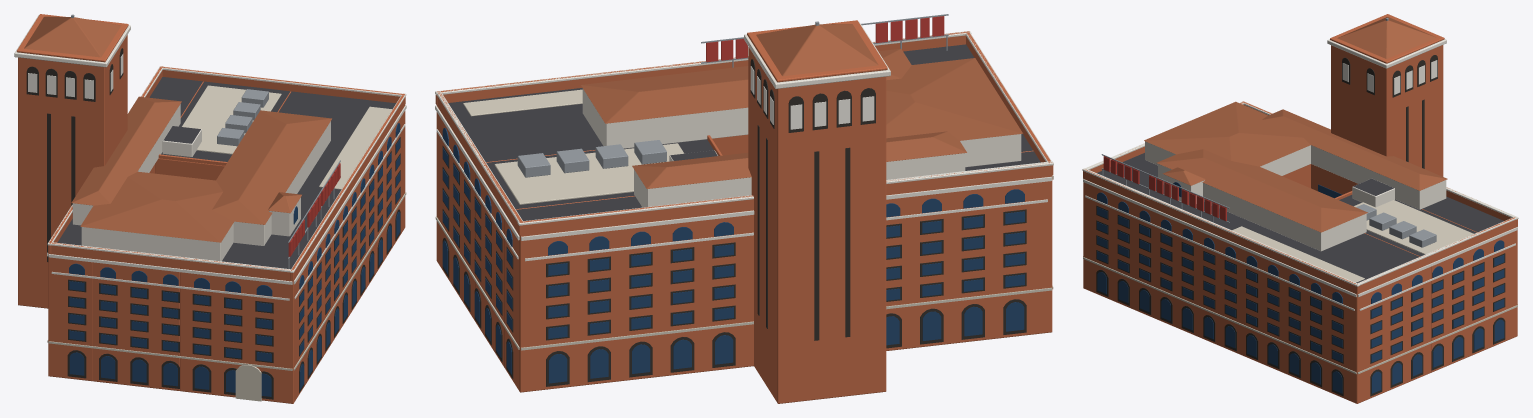
Rendered from hills-brothers-building.glb.
The picture shows the model from 3 angles, left to right: view 1: azimuth 30°, elevation 25°; view 2: azimuth 150°, elevation 25°; view 3: azimuth 270°, elevation 25°; orthographic projection. The views are drawn at different scales.
Visible parts, largest first — view 1: wing_se, tower_shaft, ph_se_roof, ph_sw_roof, wing_sw, wing_nw, ph_nw_roof, ph_sw, tower_pyramid, mech_field, par_sw, par_ne (+27 smaller); view 2: wing_nw, tower_shaft, wing_se, ph_sw_roof, ph_se_roof, par_nw, ph_nw_roof, tower_pyramid, mech_field, ph_se, wing_ne, ph_nw (+24 smaller); view 3: wing_se, tower_shaft, ph_se_roof, ph_sw_roof, wing_nw, wing_ne, ph_nw_roof, ph_se, par_se, ph_nw, mech_field, tower_pyramid (+17 smaller).
Boxes of the visible parts, <box> form: wing_se: <box>180,91,405,403</box>; tower_shaft: <box>18,35,127,308</box>; ph_se_roof: <box>212,110,331,224</box>; ph_sw_roof: <box>80,171,233,242</box>; wing_sw: <box>92,258,179,390</box>; wing_nw: <box>48,77,203,381</box>; ph_nw_roof: <box>71,96,181,205</box>; ph_sw: <box>81,223,233,261</box>; tower_pyramid: <box>24,16,121,57</box>; mech_field: <box>182,85,281,154</box>; par_sw: <box>51,242,290,279</box>; par_ne: <box>160,66,405,103</box>; wing_nw: <box>505,151,1052,392</box>; tower_shaft: <box>748,47,886,403</box>; wing_se: <box>436,44,974,321</box>; ph_sw_roof: <box>886,58,1022,140</box>; ph_se_roof: <box>581,48,911,123</box>; par_nw: <box>518,164,1053,235</box>; ph_nw_roof: <box>632,131,966,188</box>; tower_pyramid: <box>756,24,878,76</box>; mech_field: <box>494,143,684,204</box>; ph_se: <box>582,88,748,148</box>; wing_ne: <box>475,139,713,367</box>; ph_nw: <box>634,153,965,207</box>; wing_se: <box>1083,153,1431,403</box>; tower_shaft: <box>1331,45,1443,176</box>; ph_se_roof: <box>1156,149,1367,232</box>; ph_sw_roof: <box>1144,101,1310,166</box>; wing_nw: <box>1311,164,1517,348</box>; wing_ne: <box>1339,195,1488,372</box>; ph_nw_roof: <box>1262,109,1447,190</box>; ph_se: <box>1158,164,1366,251</box>; par_se: <box>1083,169,1359,293</box>; ph_nw: <box>1311,145,1446,209</box>; mech_field: <box>1354,200,1473,254</box>; tower_pyramid: <box>1337,17,1436,58</box>.
Size of the model in its own units: 84.85 by 53.2 by 84.85.
